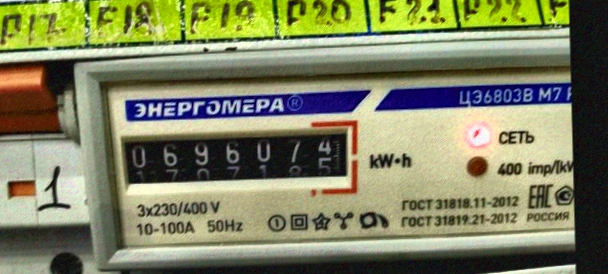0: (128, 142, 147, 168), (254, 136, 271, 163)
4: (316, 134, 330, 155)
5: (317, 156, 331, 175)
6: (159, 141, 178, 166), (223, 137, 240, 164)
7: (285, 136, 302, 163)
9: (191, 140, 209, 166)
screen: (114, 117, 362, 200)
